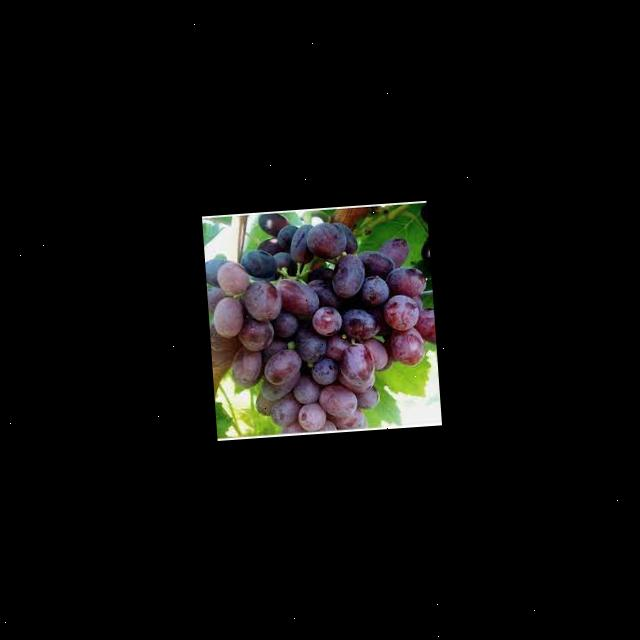grape: (201, 202, 440, 437)
